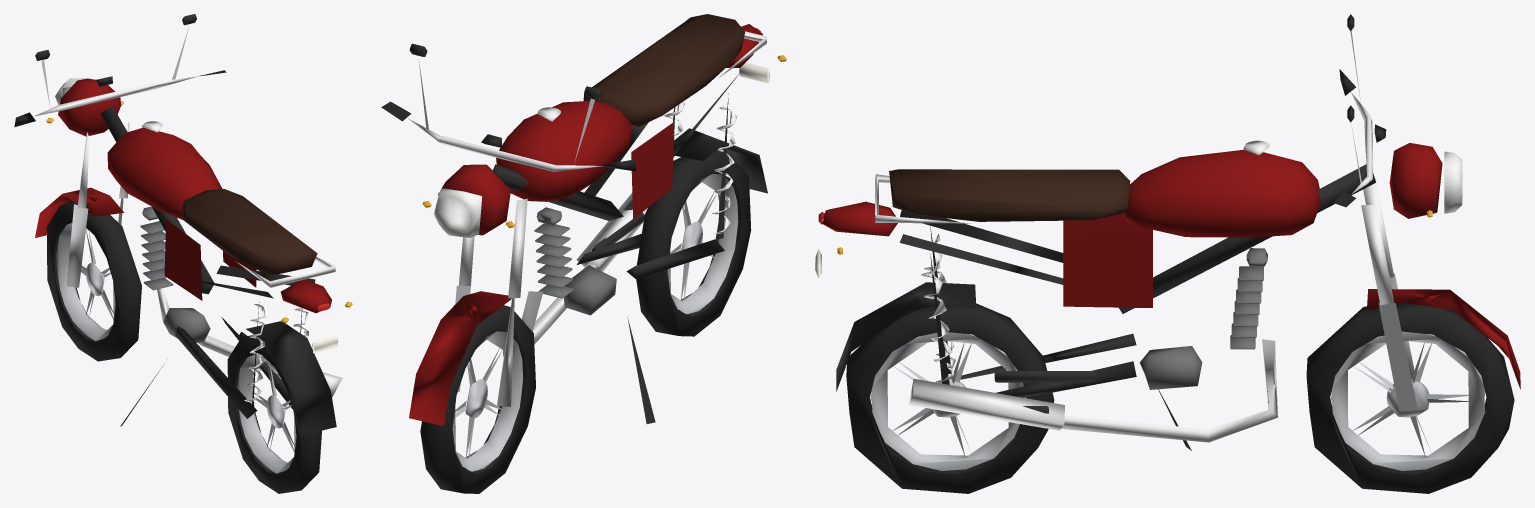
Rendered from bike_1_lo.glb.
The picture shows the model from 3 angles, left to right: view 1: azimuth 30°, elevation 25°; view 2: azimuth 150°, elevation 25°; view 3: azimuth 270°, elevation 25°; orthographic projection. The views are drawn at different scales.
Parts seen in each view (by area): view 1: body, wheel_0, wheel_1; view 2: body, wheel_1, wheel_0; view 3: body, wheel_0, wheel_1.
Part boxes in pixels (x1,y1,x2,y2): body: [14, 14, 352, 435]; wheel_0: [46, 201, 141, 361]; wheel_1: [227, 334, 321, 493]; body: [381, 14, 786, 426]; wheel_1: [636, 148, 751, 336]; wheel_0: [420, 305, 535, 493]; body: [815, 14, 1520, 450]; wheel_0: [1306, 302, 1514, 493]; wheel_1: [846, 303, 1054, 493].
Size of the model in its own units: 0.8685 by 1.31 by 1.96.
